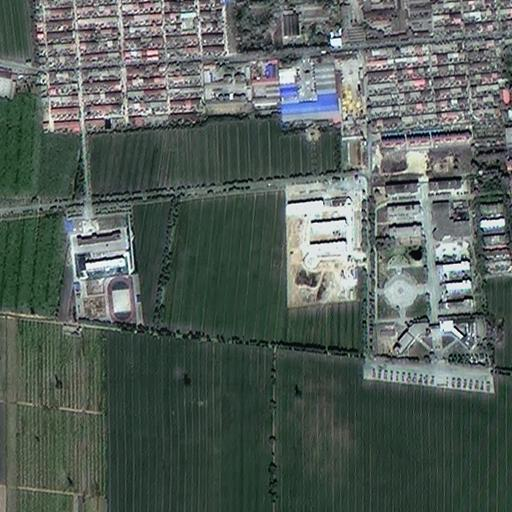school: (284, 183, 361, 307), (68, 210, 140, 327)
